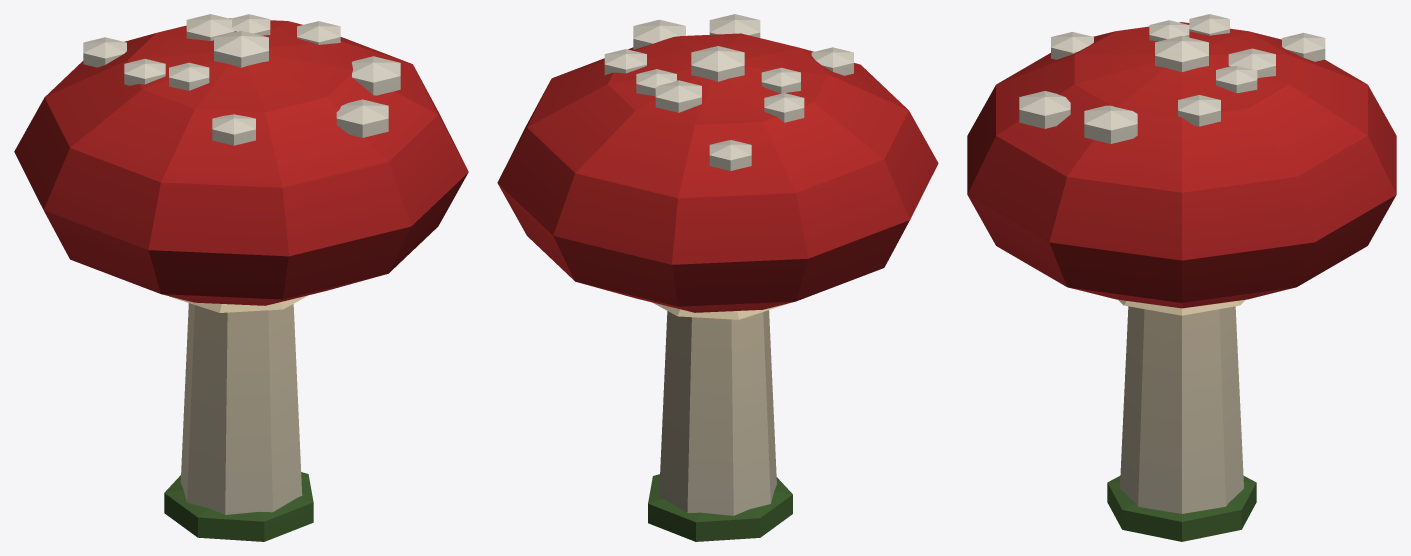
The model's file is toadstool_big.glb.
3 views of the same model, side by side, from view 1: azimuth 30°, elevation 25°; view 2: azimuth 150°, elevation 25°; view 3: azimuth 270°, elevation 25° (orthographic). The views are drawn at different scales.
Parts seen in each view (by area): view 1: toadstool_big; view 2: toadstool_big; view 3: toadstool_big.
Boxes of the visible parts, x1,y1,x2,y2 form: toadstool_big: [14, 14, 468, 541]; toadstool_big: [497, 14, 938, 541]; toadstool_big: [967, 14, 1396, 541].
Size of the model in its own units: 2.3 by 2.69 by 2.19.
